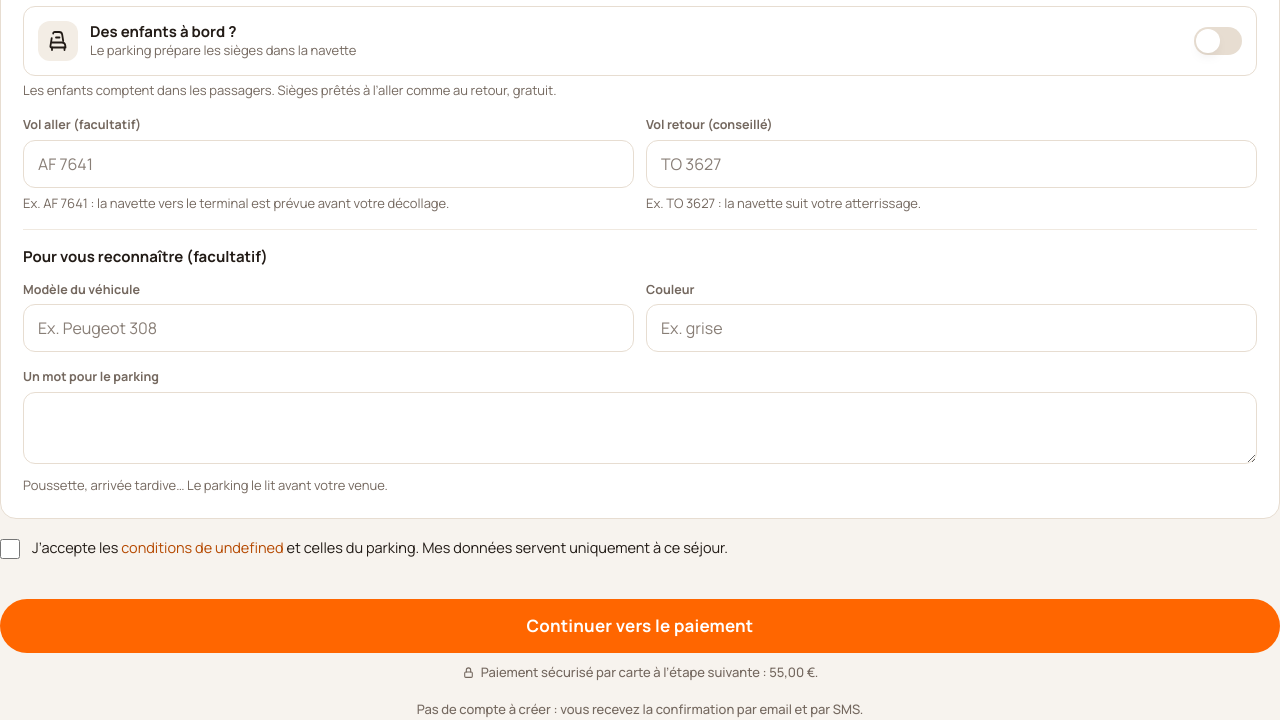
Test case: BookingForm › shows the API's field errors in French, under each field
(page scrolled)
Step 1. Click the button "Continuer vers le paiement" → (640, 626), box [0,599,1279,653]
(page scrolled)
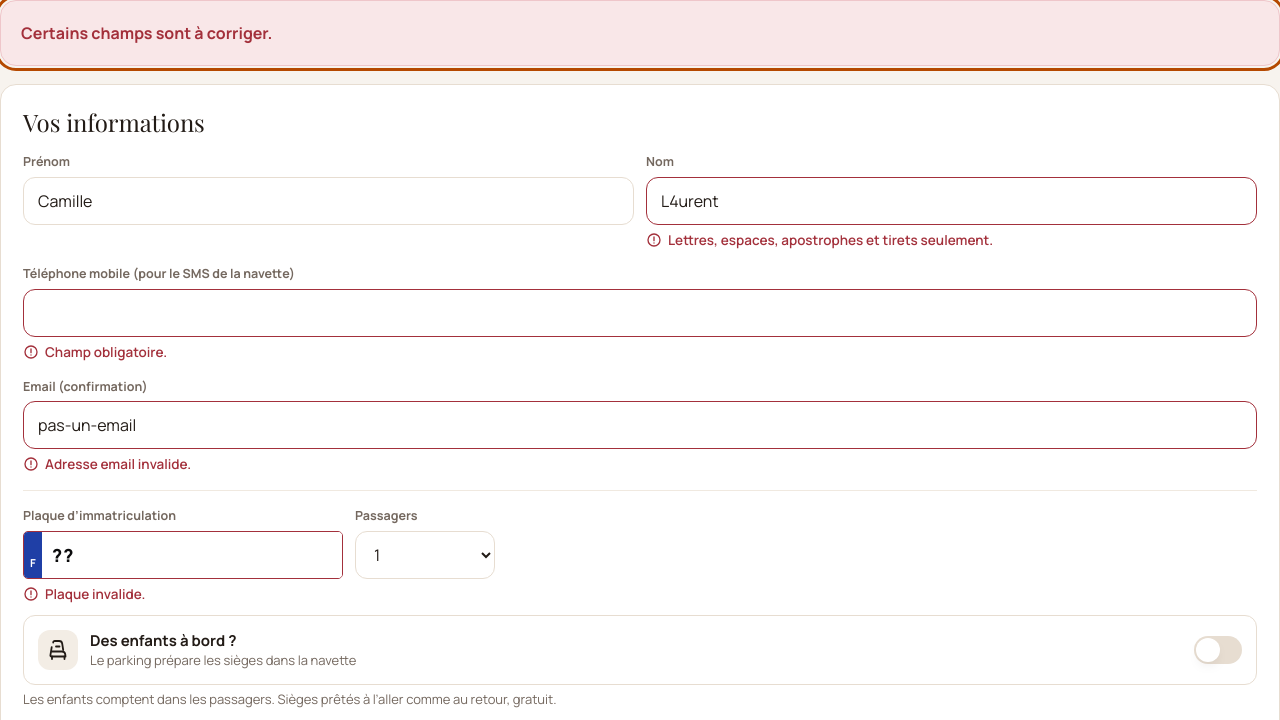
Expected: the message reads "Certains champs sont à corriger.", [21,22,272,44]
Expected: the field labelled "Prénom" holds "Camille", [23,177,634,225]
Expected: the field labelled "Nom" holds "L4urent", [646,177,1257,225]
